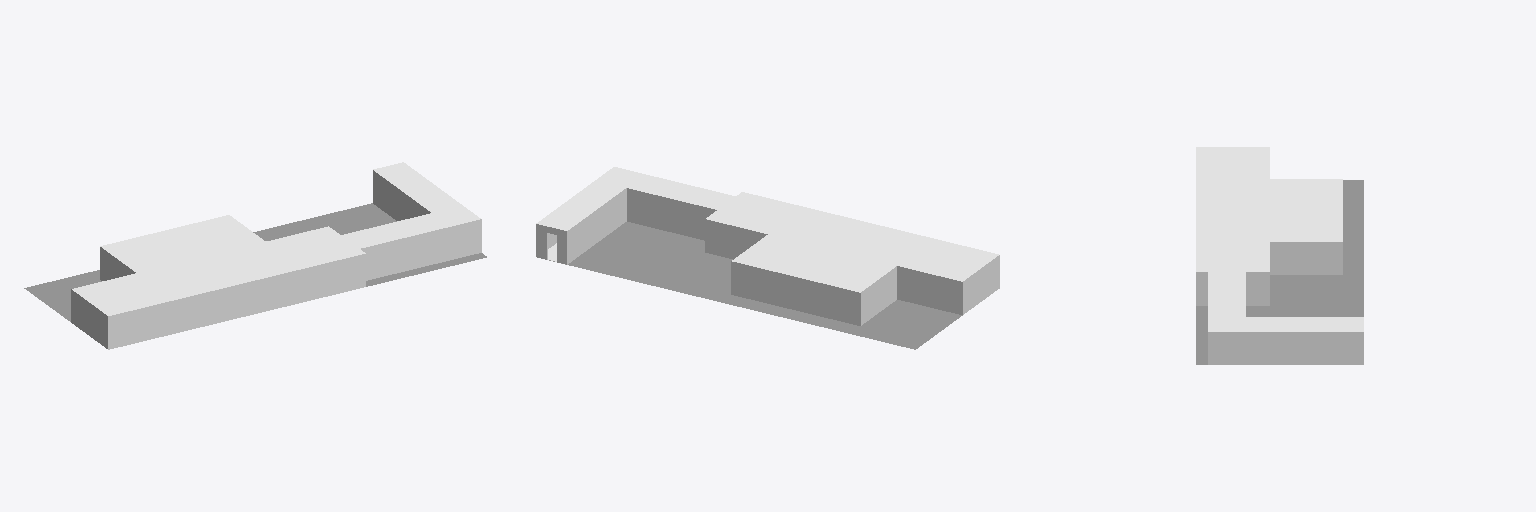
Rendered from NivelTutorial-JamTerror.obj.
3 renders of one model, left to right at view 1: azimuth 30°, elevation 25°; view 2: azimuth 150°, elevation 25°; view 3: azimuth 270°, elevation 25°, orthographic.
Visible parts, largest first — view 1: room_21_111, room_22_113, room_23_115, wall_8_41, wall_17_94, ground_1, wall_15_82, room_24_117, wall_12_64, wall_7_35, wall_4_22; view 2: ground_1, room_22_113, room_21_111, room_23_115, wall_1_4, room_24_117, wall_11_58, wall_6_29, wall_12_64, wall_19_106, wall_7_35, wall_4_22 (+1 smaller); view 3: ground_1, wall_14_76, room_22_113, room_23_115, room_21_111, room_24_117, wall_2_10, wall_10_52.
Boxes of the visible parts, <box> form: room_21_111: <box>101,215,264,272</box>; room_22_113: <box>73,258,236,315</box>; room_23_115: <box>202,227,363,283</box>; wall_8_41: <box>108,285,237,349</box>; wall_17_94: <box>237,254,365,317</box>; ground_1: <box>24,203,486,321</box>; wall_15_82: <box>361,219,481,280</box>; room_24_117: <box>341,163,479,247</box>; wall_12_64: <box>373,170,430,220</box>; wall_7_35: <box>71,289,107,348</box>; wall_4_22: <box>100,247,135,280</box>; ground_1: <box>549,222,962,349</box>; room_22_113: <box>835,224,998,280</box>; room_21_111: <box>734,235,896,291</box>; room_23_115: <box>707,193,868,249</box>; wall_1_4: <box>731,261,860,325</box>; room_24_117: <box>538,167,735,230</box>; wall_11_58: <box>627,188,716,240</box>; wall_6_29: <box>897,266,962,314</box>; wall_12_64: <box>567,188,626,264</box>; wall_19_106: <box>705,219,767,259</box>; wall_7_35: <box>963,255,999,314</box>; wall_4_22: <box>861,266,896,325</box>; ground_1: <box>1196,180,1363,364</box>; wall_14_76: <box>1208,332,1363,364</box>; room_22_113: <box>1196,147,1268,209</box>; room_23_115: <box>1196,210,1268,271</box>; room_21_111: <box>1270,179,1342,240</box>; room_24_117: <box>1209,272,1363,331</box>; wall_2_10: <box>1270,242,1342,274</box>; wall_10_52: <box>1246,272,1269,305</box>.
Size of the model in its own units: 2958 by 250 by 1139.